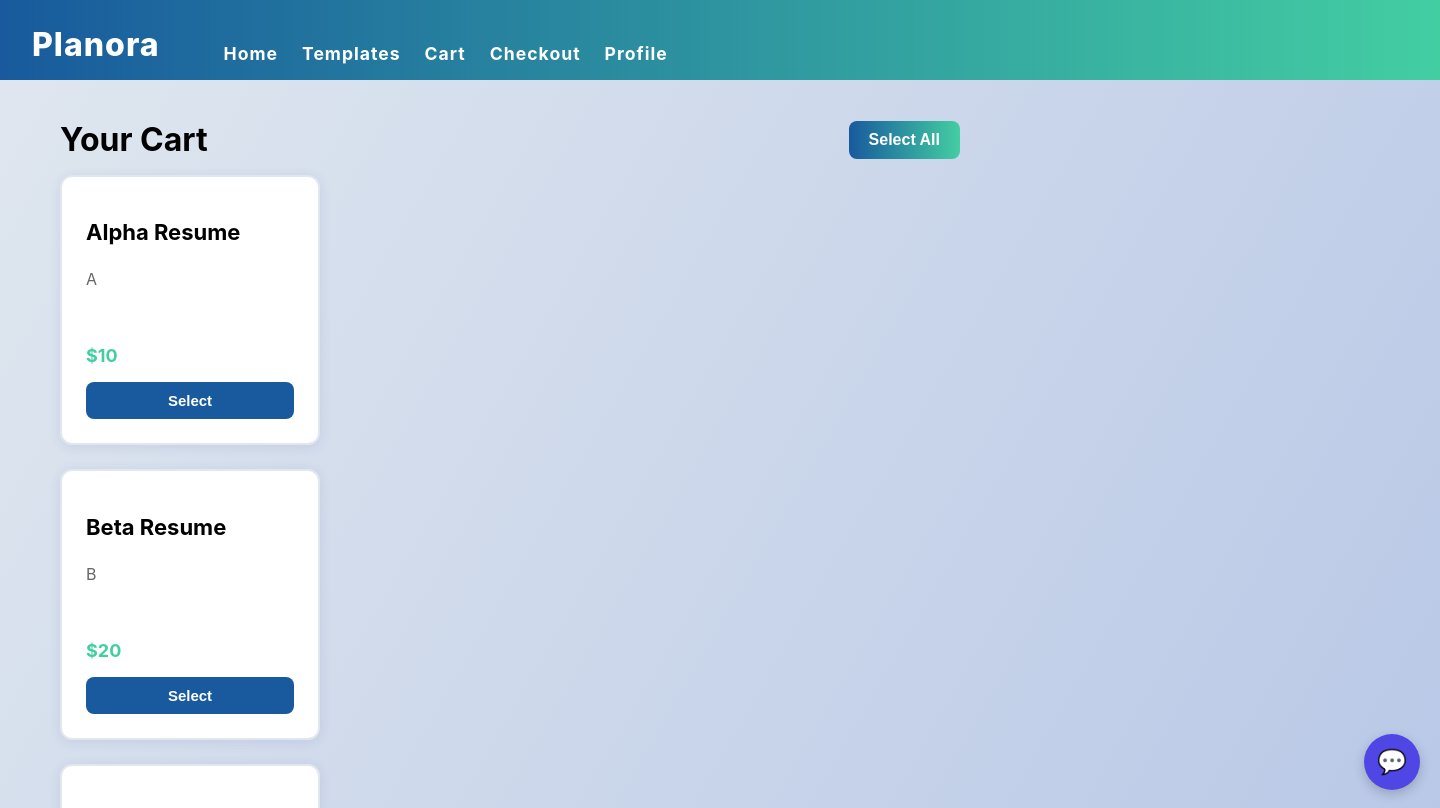
it: cart -> checkout with two items, minus removes only one
Expected: the heading "Alpha Resume" is shown, 86,219 -> 240,245
Step 1. Click the button "Select" below "10" → (190, 401), box 86,382 -> 294,419
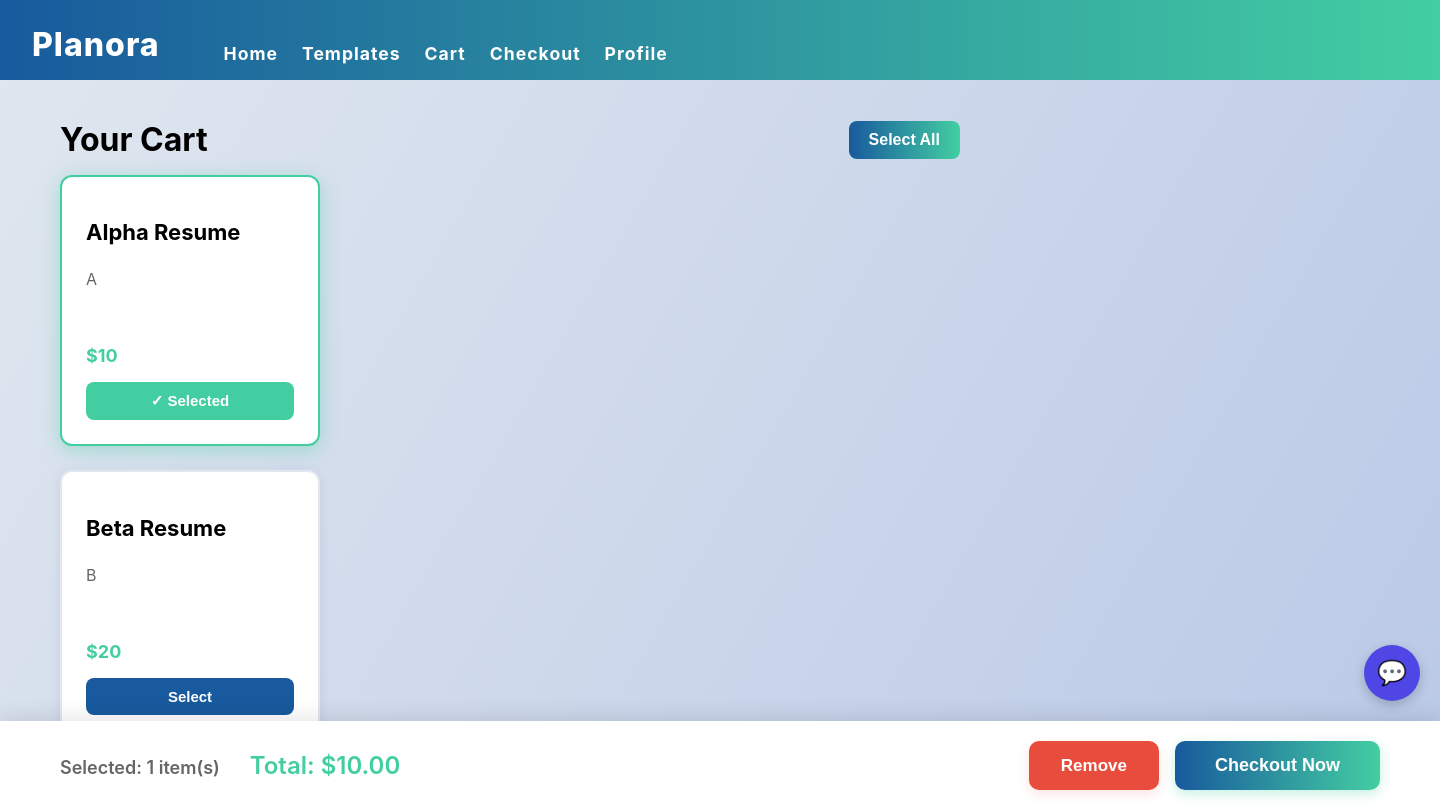
Step 2. Click the button "Select" → (190, 696), box 86,678 -> 294,715
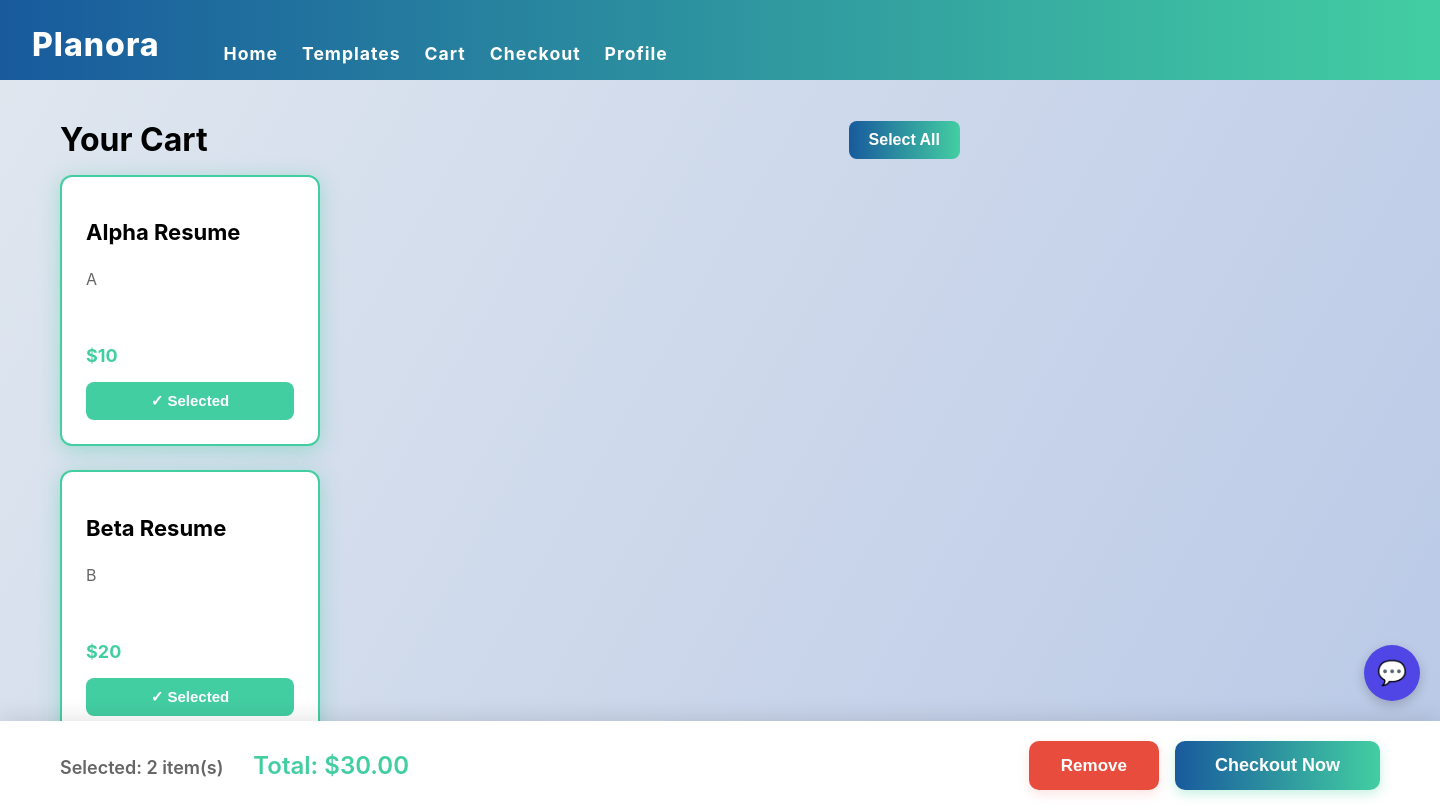
Step 3. Click the button "Checkout Now" → (1278, 766), box 1175,741 -> 1380,790
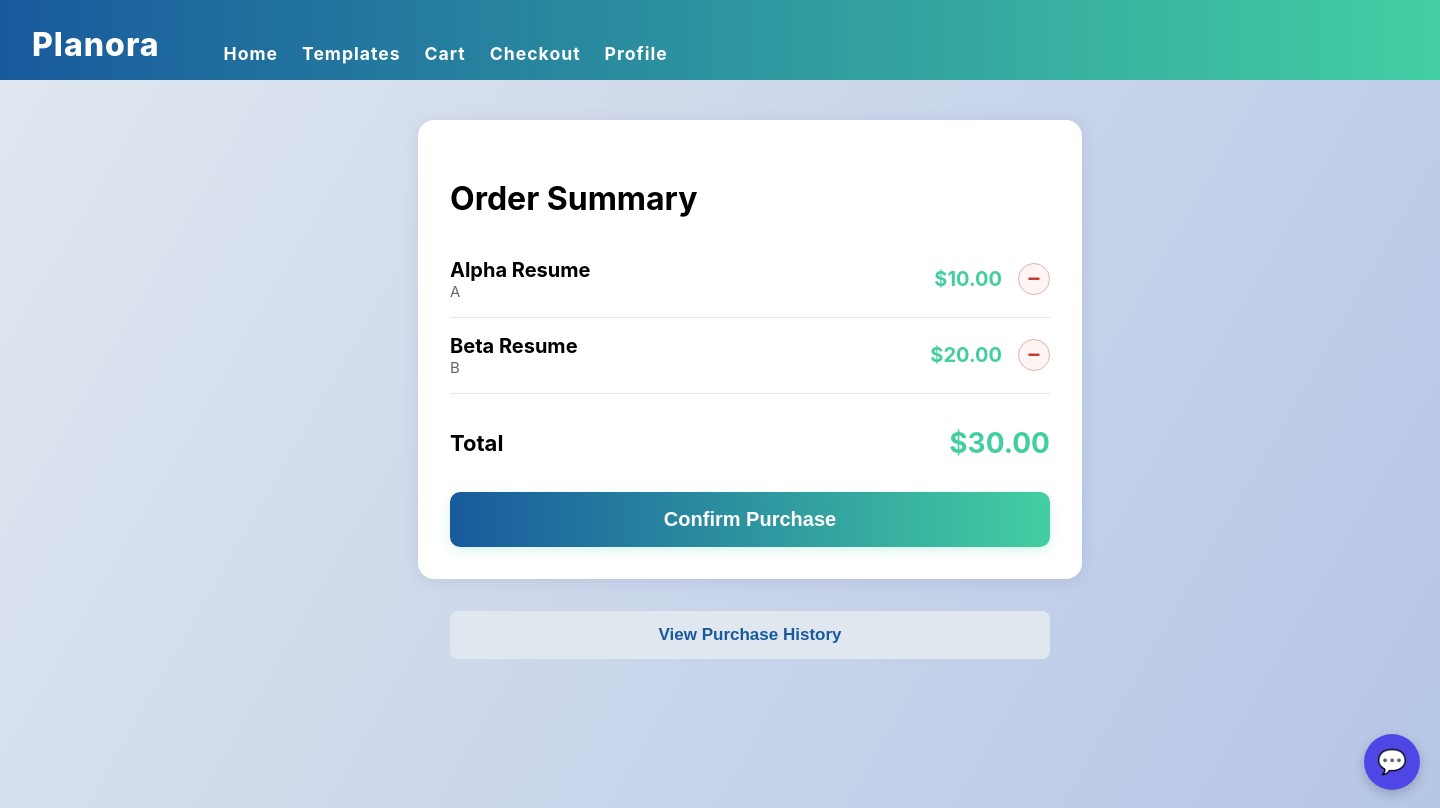
Expected: the text "Beta Resume" is shown, 450,334 -> 578,358
Now the heading "Order Summary" is shown, box 450,179 -> 697,218
Now the text "Alpha Resume" is shown, box 450,258 -> 590,282
Step 4. Click the button named "Remove Alpha Resume from this order" → (1034, 279), box 1018,263 -> 1050,295
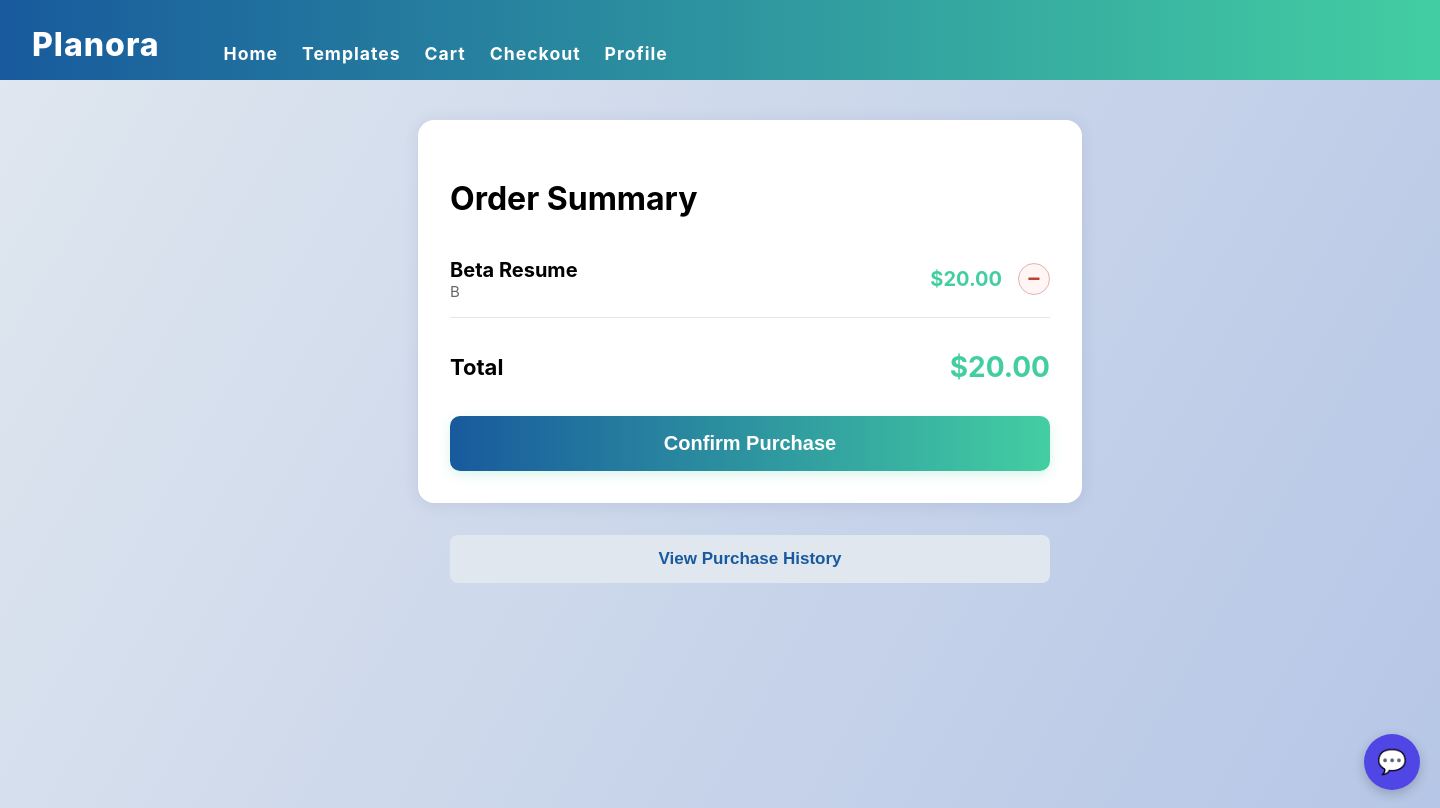
Expected: the text "Beta Resume" is shown, 450,258 -> 578,282
Now the text "Alpha Resume" is gone
Step 5. Click the link "Cart" → (445, 54), box 425,43 -> 466,64
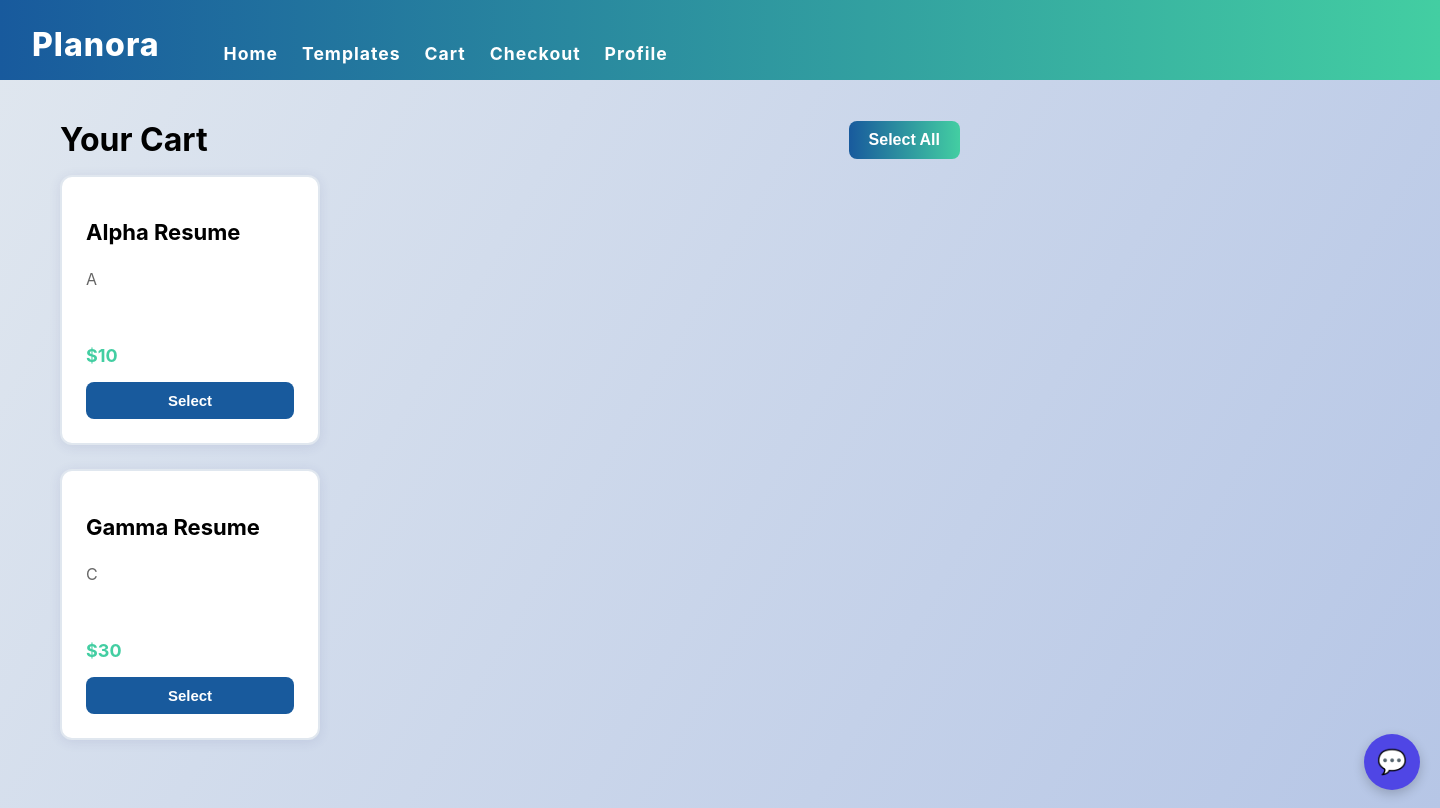
Now the heading "Alpha Resume" is shown, box 86,219 -> 240,245
Now the text "Beta Resume" is gone
Now the heading "Gamma Resume" is shown, box 86,514 -> 260,540
// Returning via the nav link still shows Beta in checkout
Step 6. Click the link "Checkout" → (535, 54), box 490,43 -> 581,64
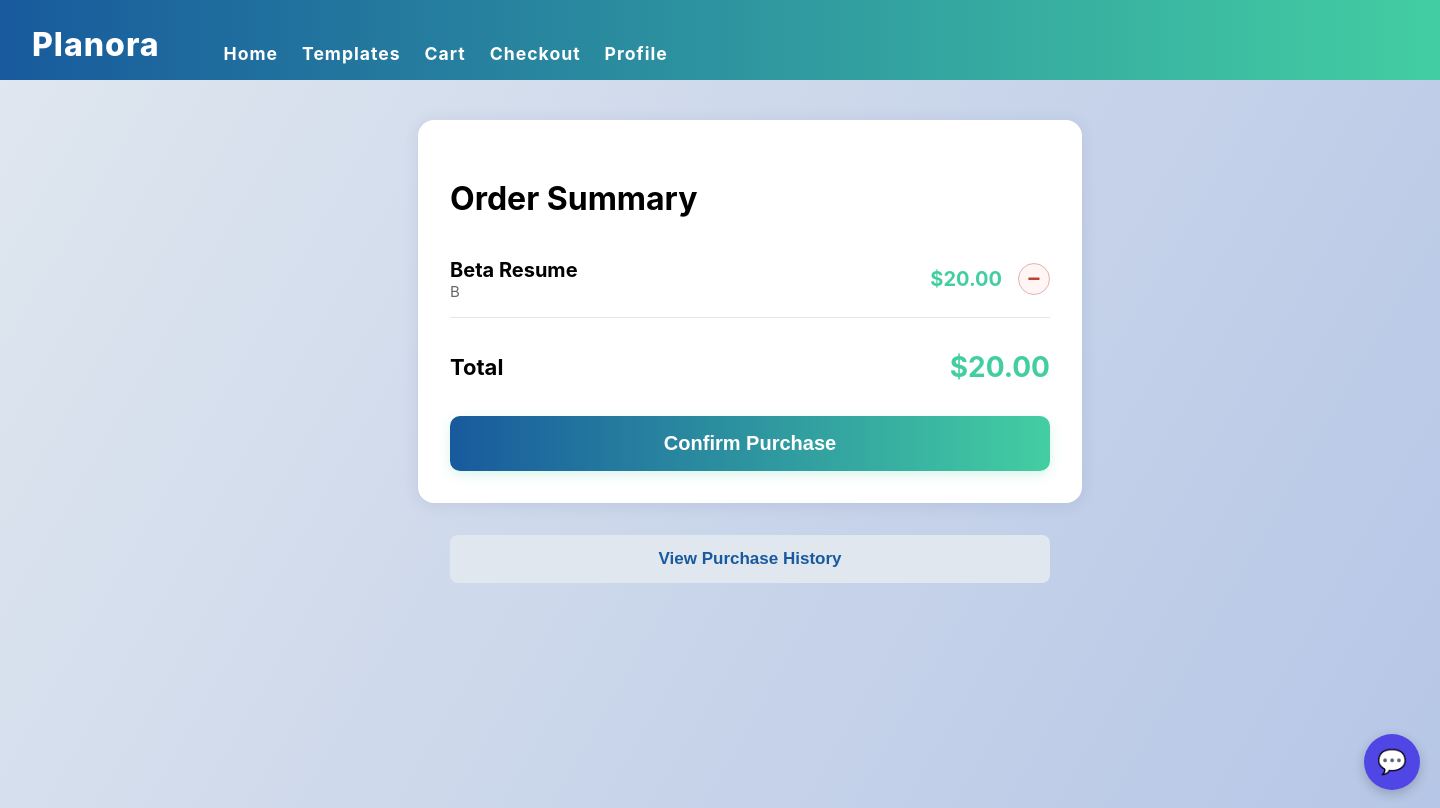
Now the heading "Order Summary" is shown, box 450,179 -> 697,218
Now the text "Beta Resume" is shown, box 450,258 -> 578,282
Now the heading "Alpha Resume" is gone
